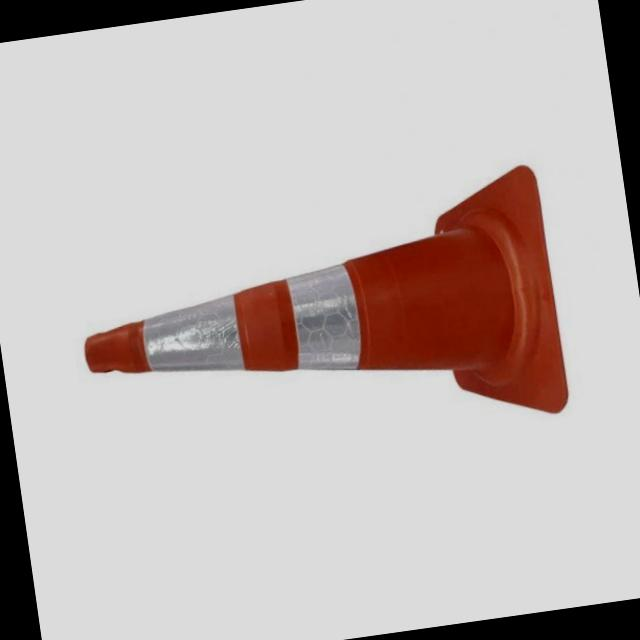cone: (34, 56, 614, 552)
